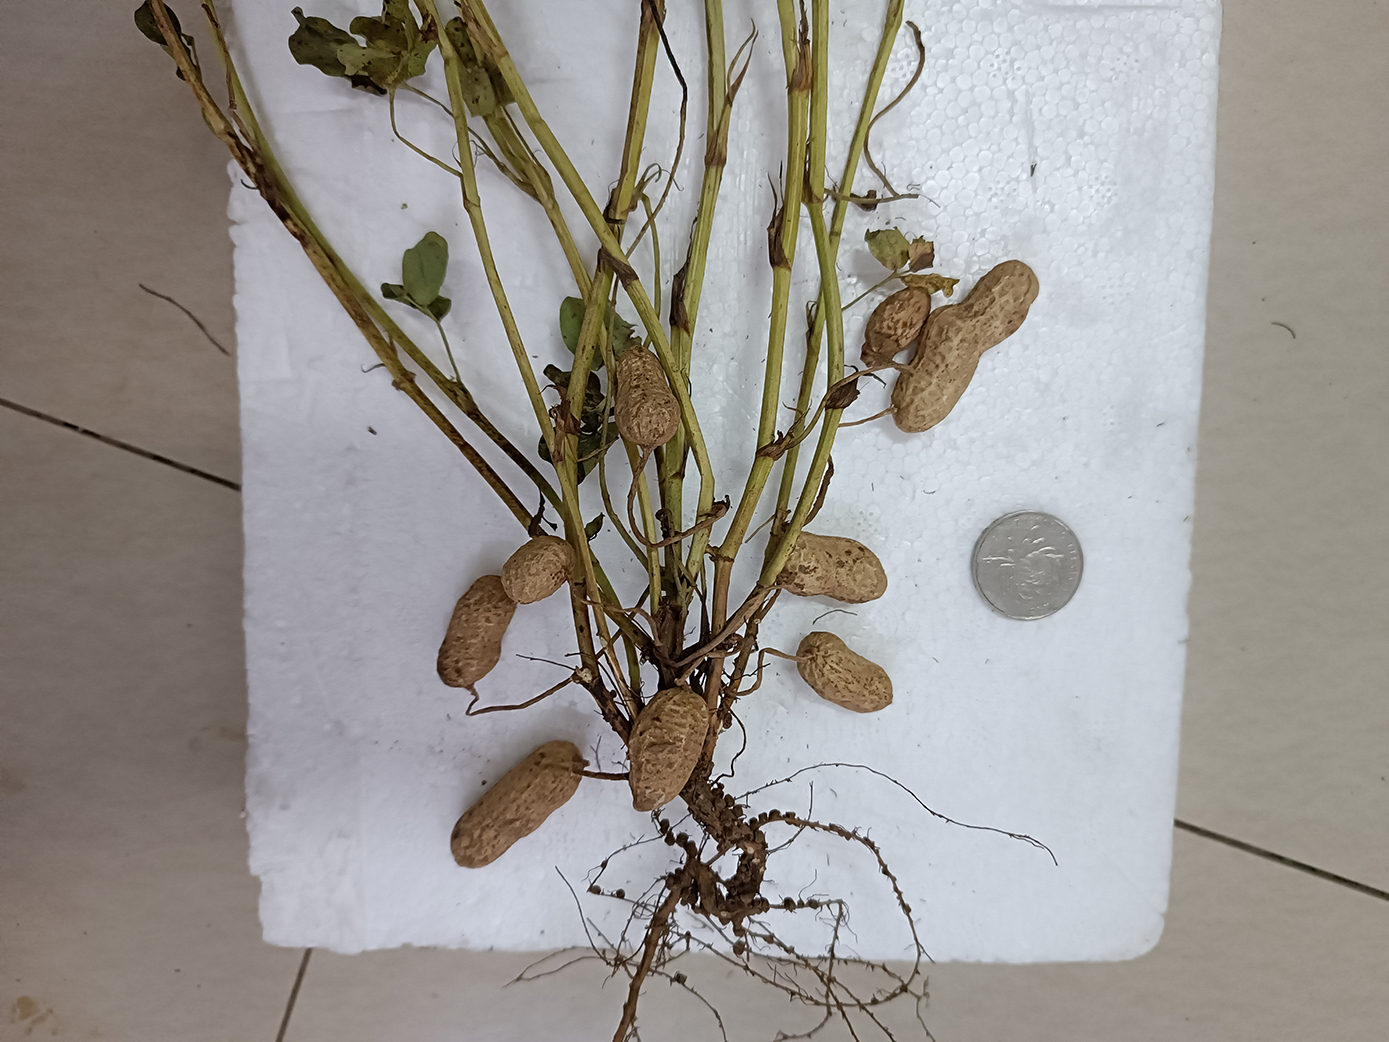h: (891, 259, 1040, 435), (449, 740, 586, 869), (625, 688, 711, 812), (437, 574, 518, 688), (797, 630, 894, 714), (780, 531, 886, 604), (615, 347, 681, 447), (500, 535, 578, 605)
l: (861, 287, 931, 370)
